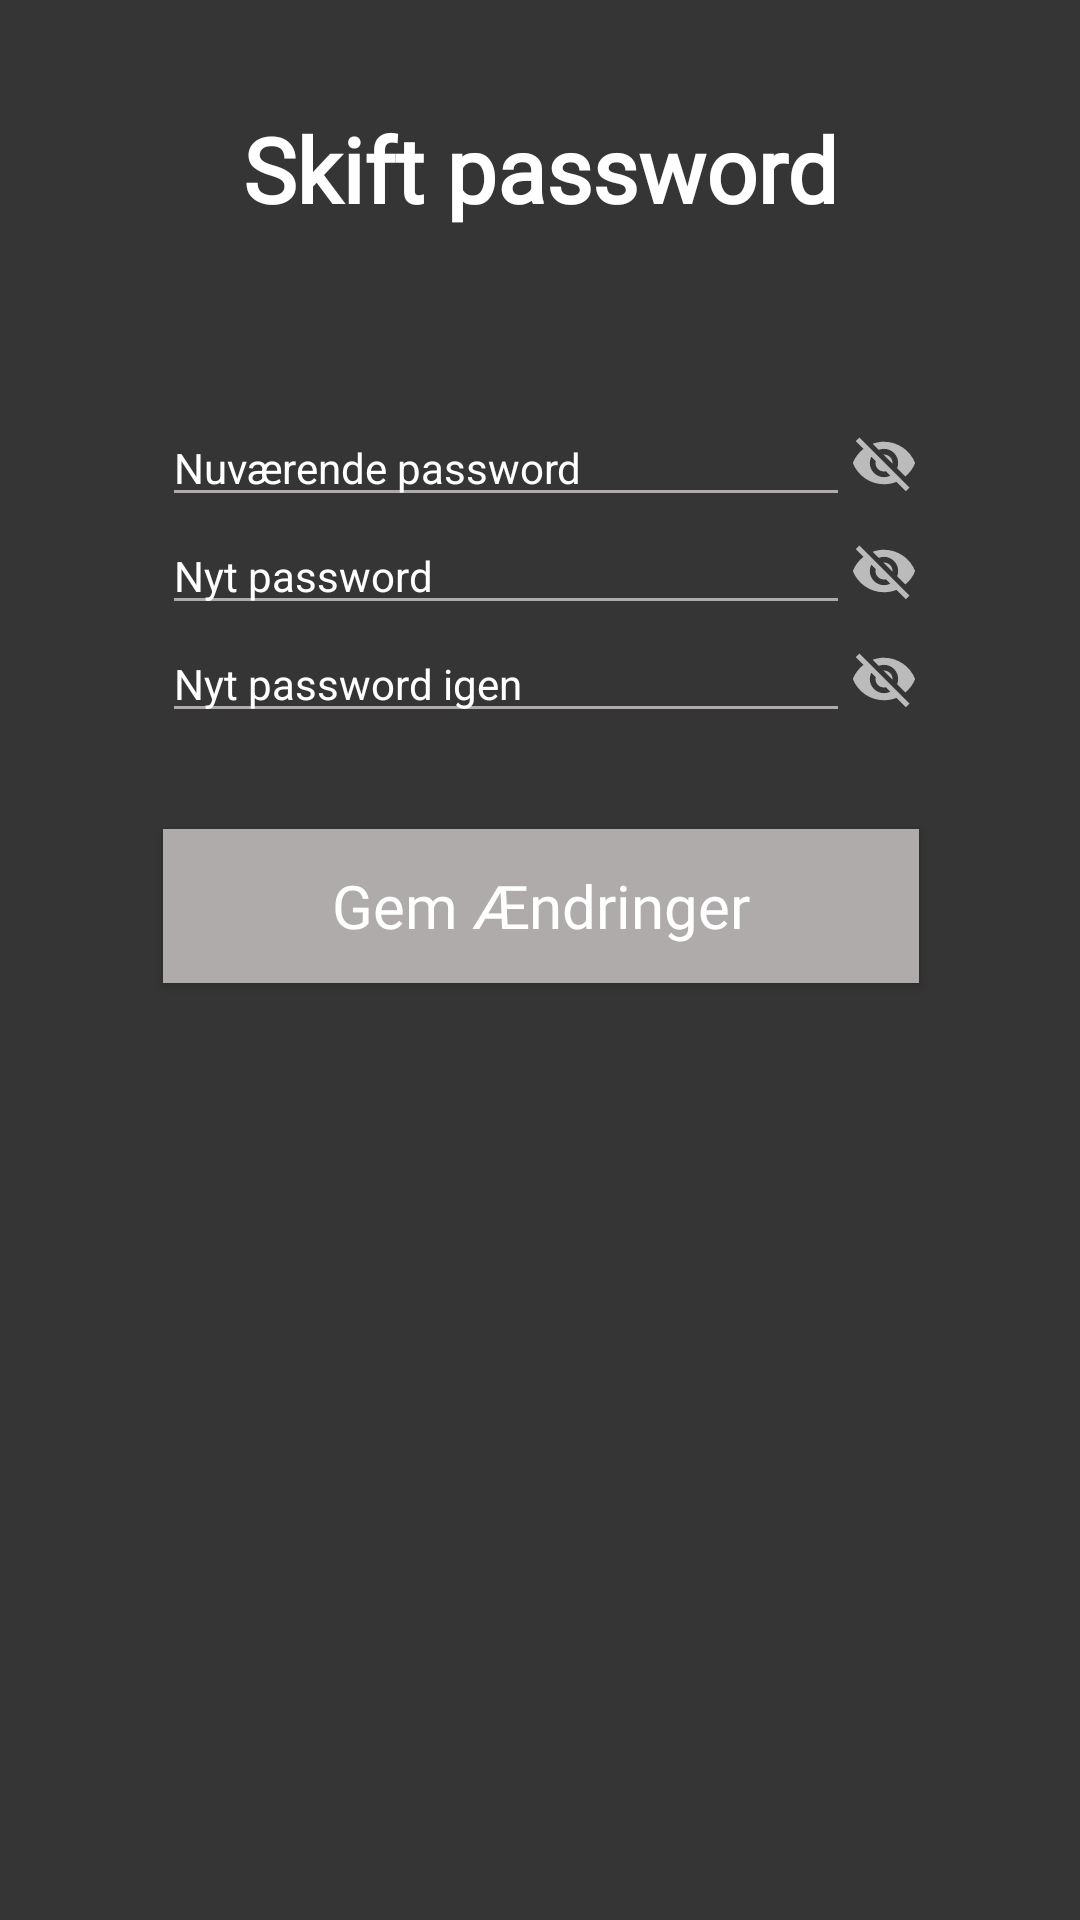

Screen size 1080*1920. Icon name, then its center in pixels as point (x, y):
visibility off: point (884, 464), point (884, 572), point (884, 680)
